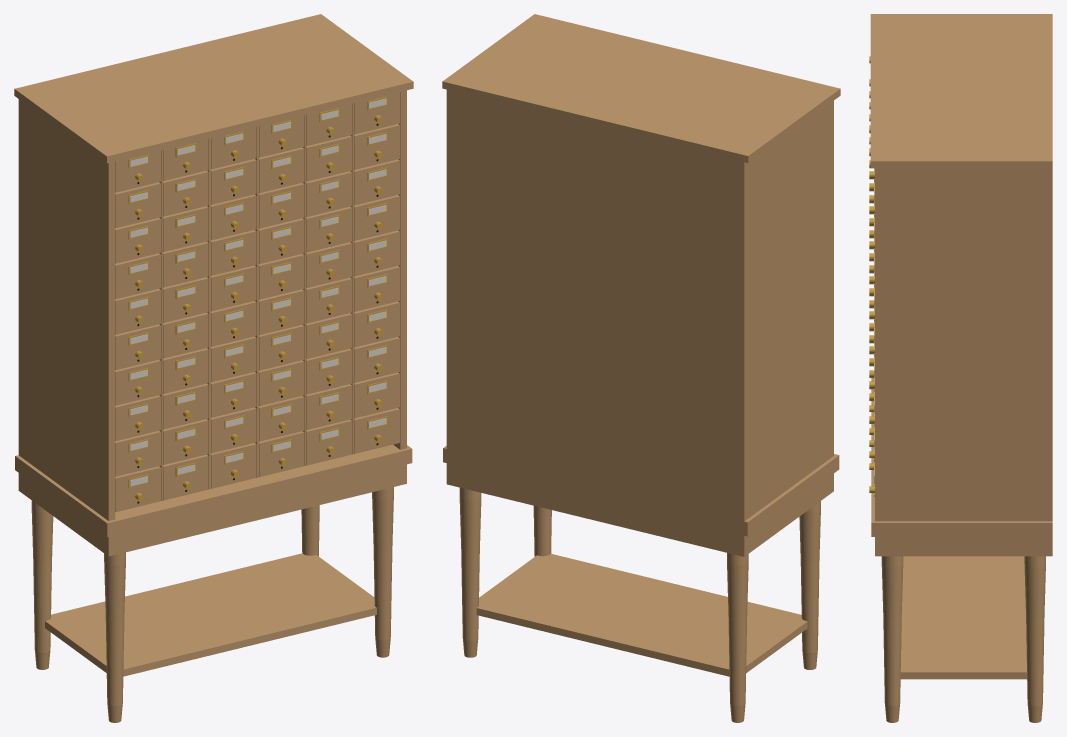
The model's file is 081_card_catalog_cabinet_60_drawers.glb.
The picture shows the model from 3 angles, left to right: view 1: azimuth 30°, elevation 25°; view 2: azimuth 150°, elevation 25°; view 3: azimuth 270°, elevation 25°; orthographic projection.
Visible parts, largest first — view 1: 017_drawer_fronts_60, 006_carcass_side_l, 008_carcass_top, 005_stand_shelf, 011_base_moulding, 004_stand_apron, 019_index_label_cards_60, 018_brass_label_holders_60, 020_brass_drawer_pulls_60, 007_carcass_side_r, 001_turned_leg, 003_turned_leg (+7 smaller); view 2: 010_carcass_back_panel, 006_carcass_side_l, 008_carcass_top, 005_stand_shelf, 004_stand_apron, 007_carcass_side_r, 000_turned_leg, 002_turned_leg, 001_turned_leg, 011_base_moulding, 003_turned_leg; view 3: 007_carcass_side_r, 008_carcass_top, 005_stand_shelf, 004_stand_apron, 011_base_moulding, 003_turned_leg, 002_turned_leg, 020_brass_drawer_pulls_60.
Part boxes in pixels (x1=…): 017_drawer_fronts_60: x1=115, y1=92, x2=399, y2=511; 006_carcass_side_l: x1=18, y1=86, x2=115, y2=520; 008_carcass_top: x1=14, y1=14, x2=413, y2=163; 005_stand_shelf: x1=45, y1=553, x2=376, y2=676; 011_base_moulding: x1=15, y1=444, x2=412, y2=537; 004_stand_apron: x1=18, y1=464, x2=406, y2=556; 019_index_label_cards_60: x1=130, y1=98, x2=386, y2=486; 018_brass_label_holders_60: x1=128, y1=96, x2=387, y2=487; 020_brass_drawer_pulls_60: x1=135, y1=115, x2=383, y2=501; 007_carcass_side_r: x1=311, y1=15, x2=406, y2=449; 001_turned_leg: x1=104, y1=552, x2=125, y2=722; 003_turned_leg: x1=372, y1=487, x2=393, y2=657; 010_carcass_back_panel: x1=453, y1=91, x2=737, y2=533; 006_carcass_side_l: x1=737, y1=87, x2=833, y2=535; 008_carcass_top: x1=442, y1=14, x2=840, y2=162; 005_stand_shelf: x1=476, y1=553, x2=807, y2=676; 004_stand_apron: x1=446, y1=463, x2=833, y2=556; 007_carcass_side_r: x1=446, y1=16, x2=541, y2=464; 000_turned_leg: x1=727, y1=553, x2=748, y2=722; 002_turned_leg: x1=459, y1=487, x2=481, y2=657; 001_turned_leg: x1=799, y1=501, x2=820, y2=669; 011_base_moulding: x1=443, y1=446, x2=839, y2=536; 003_turned_leg: x1=533, y1=505, x2=551, y2=556; 007_carcass_side_r: x1=875, y1=156, x2=1052, y2=521; 008_carcass_top: x1=870, y1=14, x2=1052, y2=168; 005_stand_shelf: x1=900, y1=556, x2=1027, y2=679; 004_stand_apron: x1=875, y1=537, x2=1052, y2=556; 011_base_moulding: x1=871, y1=378, x2=1052, y2=536; 003_turned_leg: x1=881, y1=556, x2=903, y2=722; 002_turned_leg: x1=1024, y1=556, x2=1045, y2=722; 020_brass_drawer_pulls_60: x1=869, y1=56, x2=874, y2=492.
Size of the model in its own units: 0.904 by 1.62 by 0.475.
